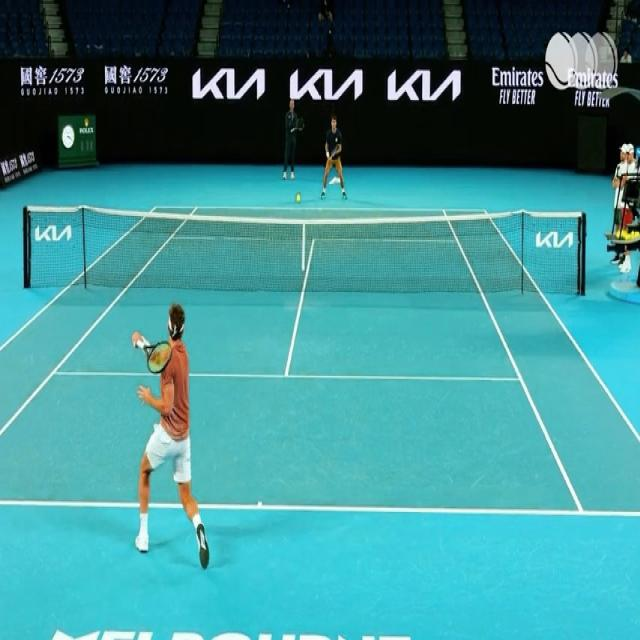forehand-finish: (131, 291, 208, 573)
